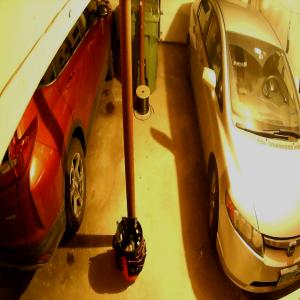garbage bin: (129, 0, 160, 96)
honda civic: (185, 0, 300, 294)
honda crv: (0, 0, 117, 275)
tool bucket: (112, 215, 147, 281)
